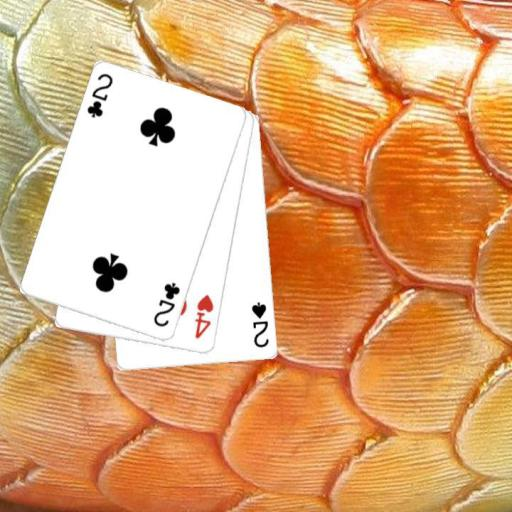2C: (151, 280, 182, 330), (84, 71, 114, 121)
2S: (249, 299, 271, 349)
4H: (192, 292, 215, 341)
